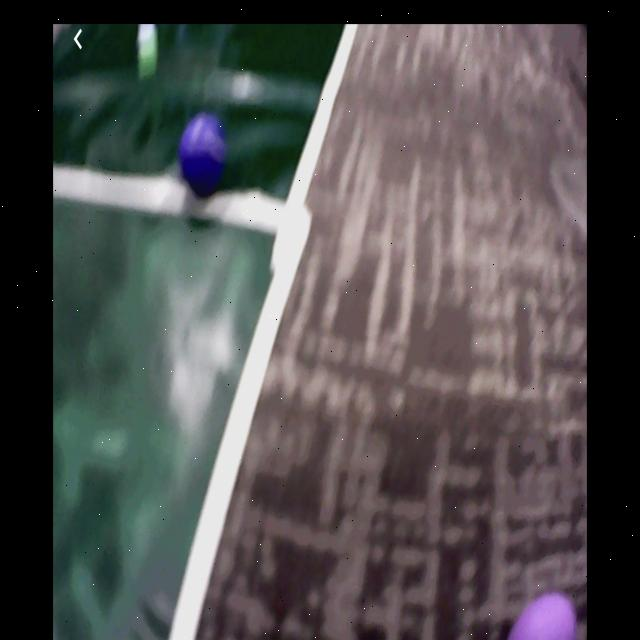ball: (181, 114, 230, 198), (509, 593, 578, 640)
